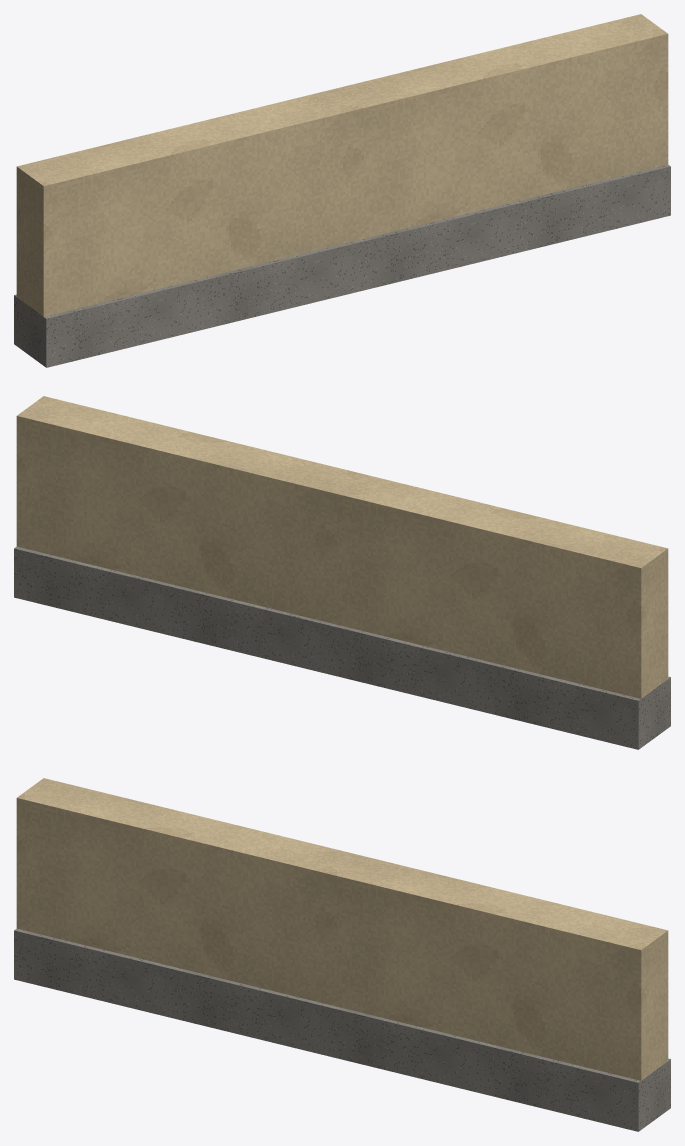
File: wall-low-4m.glb
3 views of the same model, one above another, from view 1: azimuth 30°, elevation 25°; view 2: azimuth 150°, elevation 25°; view 3: azimuth 330°, elevation 25° (orthographic).
Parts seen in each view (by area): view 1: wall-low-4m; view 2: wall-low-4m; view 3: wall-low-4m.
Boxes of the visible parts, x1,y1,x2,y2 form: wall-low-4m: (14,14,670,367); wall-low-4m: (14,396,670,749); wall-low-4m: (14,778,670,1131).
Bounding box in the file's own units: 4 × 1.1 × 0.36.
Materials: 1 (1 with a texture image).
